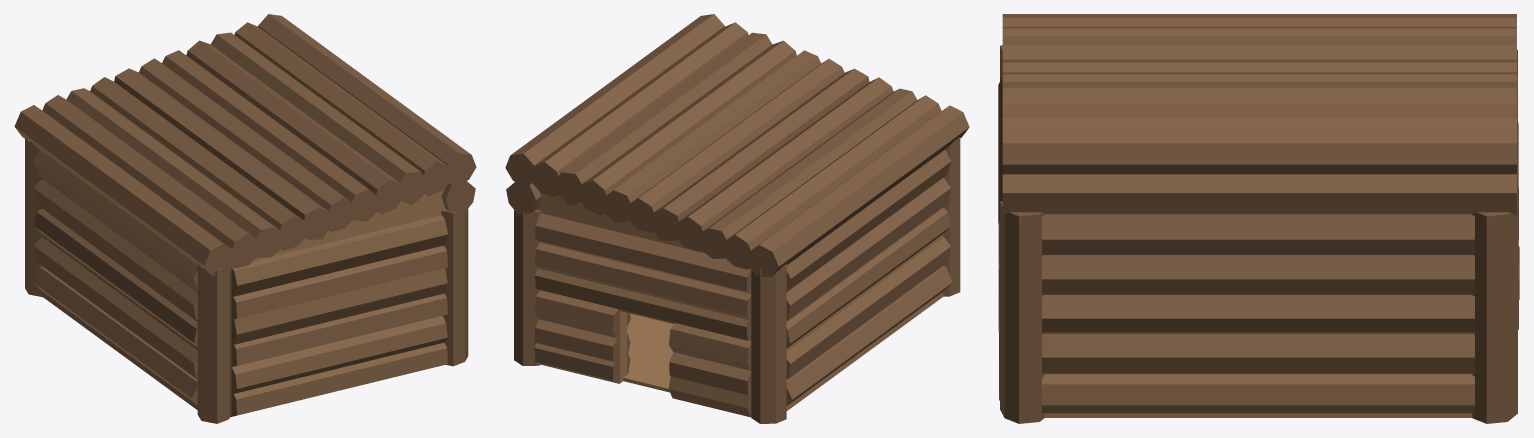
The model's file is cabin2.fbx.
The picture shows the model from 3 angles, left to right: view 1: azimuth 30°, elevation 25°; view 2: azimuth 150°, elevation 25°; view 3: azimuth 270°, elevation 25°; orthographic projection. The views are drawn at different scales.
Visible parts, largest first — view 1: Cube.001; view 2: Cube.001; view 3: Cube.001.
Boxes of the visible parts, x1=… form: Cube.001: x1=14, y1=14, x2=476, y2=423; Cube.001: x1=505, y1=14, x2=969, y2=423; Cube.001: x1=998, y1=14, x2=1519, y2=423.
Size of the model in its own units: 1729 by 1299 by 2117.
